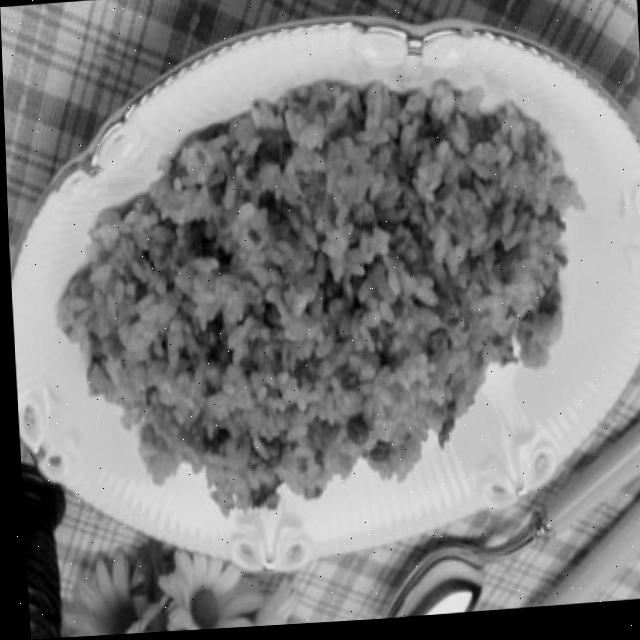米饭主食: (54, 56, 596, 539)
